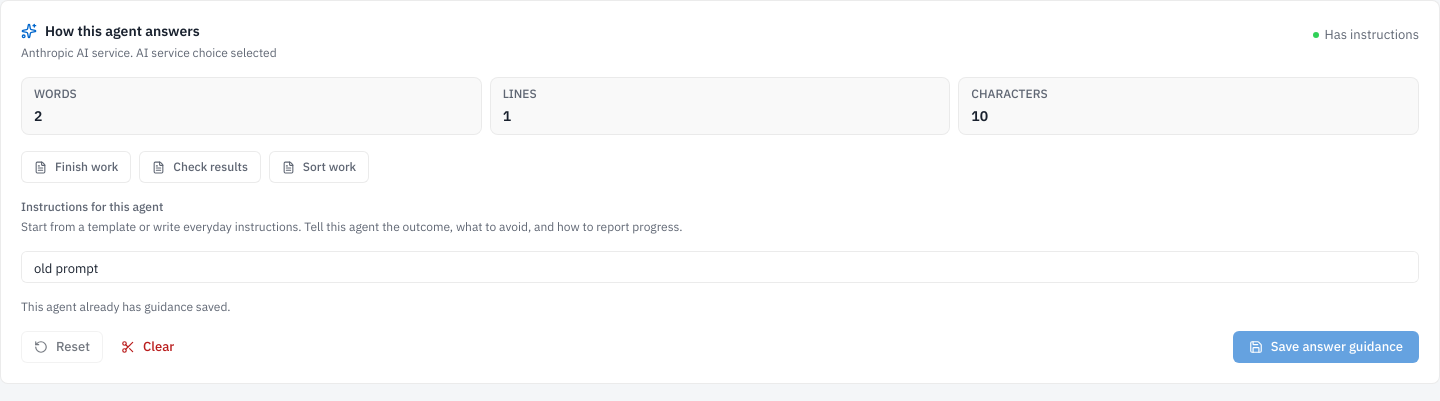
AgentConfigTab › applies a prompt template and can reset the edit
Click the button "Check results" at (200, 167), box x1=139 y1=151 x2=261 y2=183
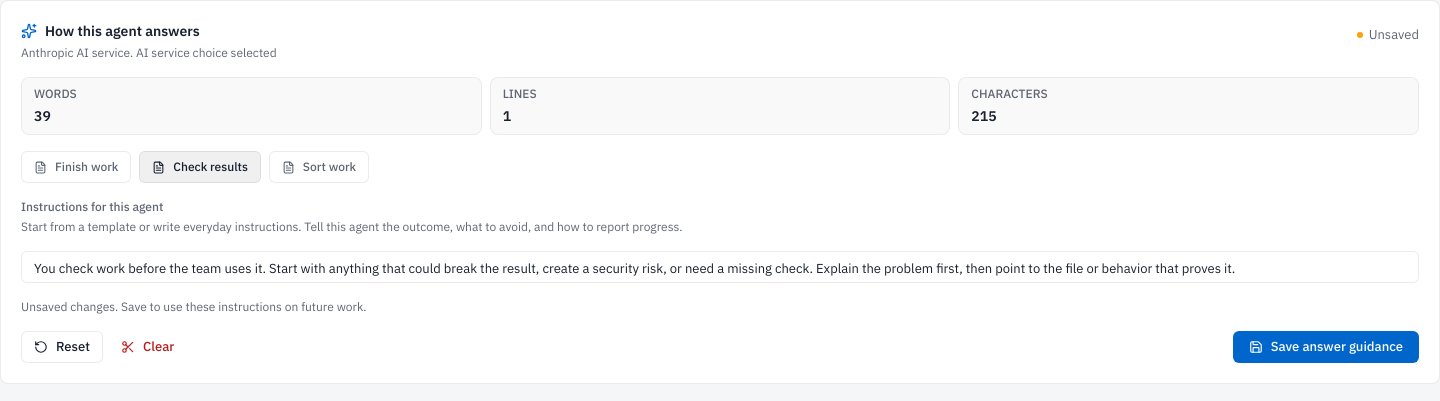
Expected: the text "Unsaved" is shown, x1=1357 y1=21 x2=1419 y2=49
Expected: the message shows "Unsaved changes", x1=21 y1=299 x2=366 y2=314
Click the button "Reset" at (62, 347), box x1=21 y1=331 x2=103 y2=363
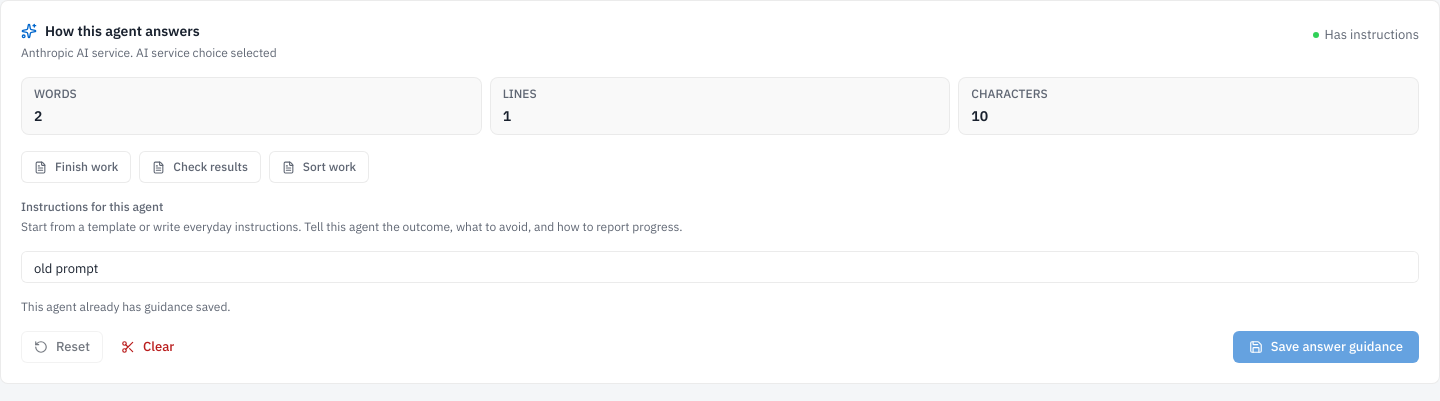
Expected: the text box labelled "Instructions for this agent" holds "old prompt", x1=21 y1=251 x2=1419 y2=283
